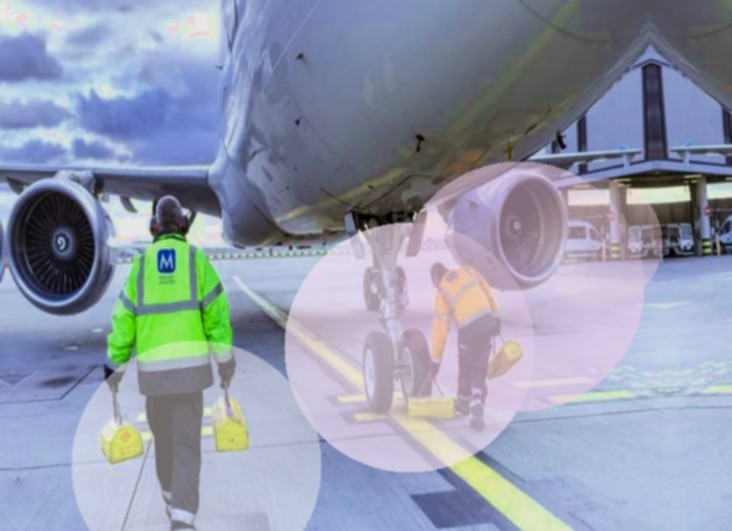chock: (95, 411, 147, 468), (211, 387, 252, 458), (481, 338, 525, 383), (407, 394, 457, 424)
wheel: (360, 328, 396, 415), (395, 326, 432, 406), (361, 266, 382, 311), (394, 264, 407, 290)
